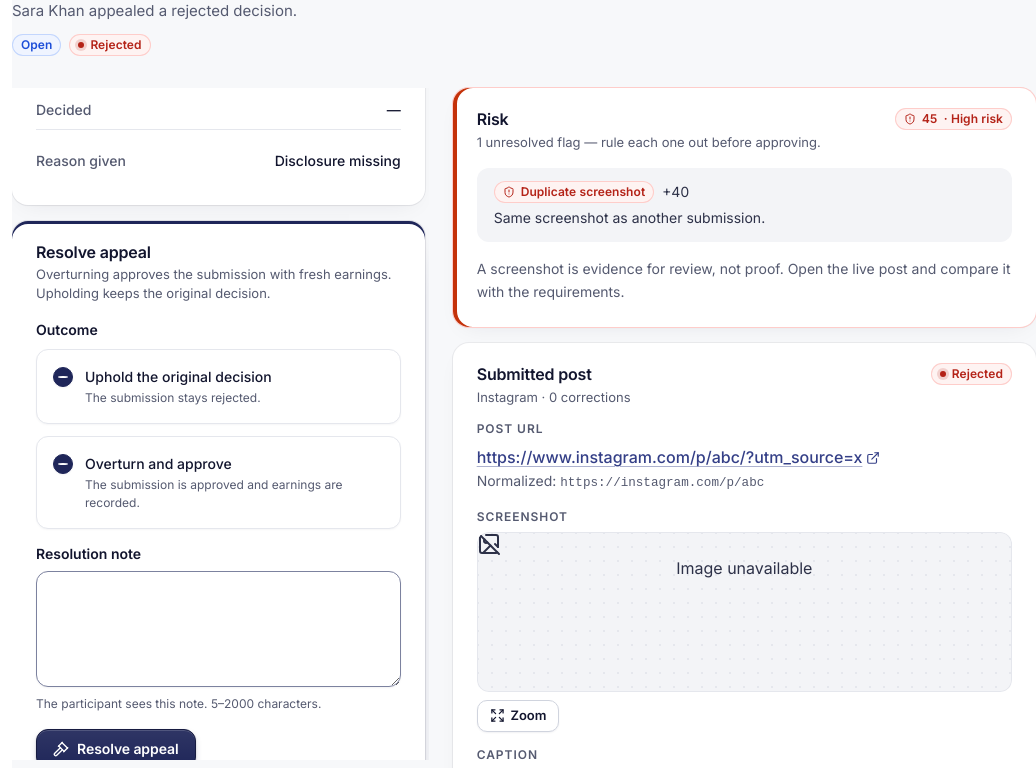
Scenario: AppealDetailPage › explains the server’s appeal.same_reviewer 403
(page scrolled)
Click the radio button labelled "Overturn and approve" at point(63, 464), box [53, 454, 73, 474]
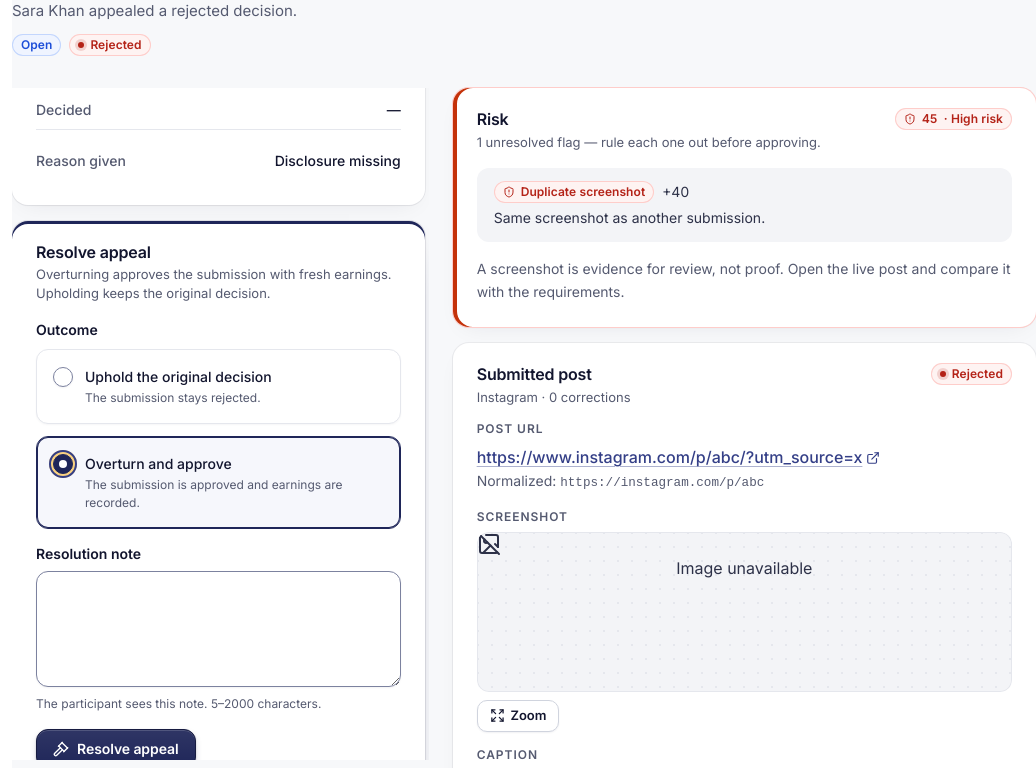
Type "Disclosure confirmed." into the text box labelled "Resolution note" at point(218, 629), box [36, 571, 401, 687]
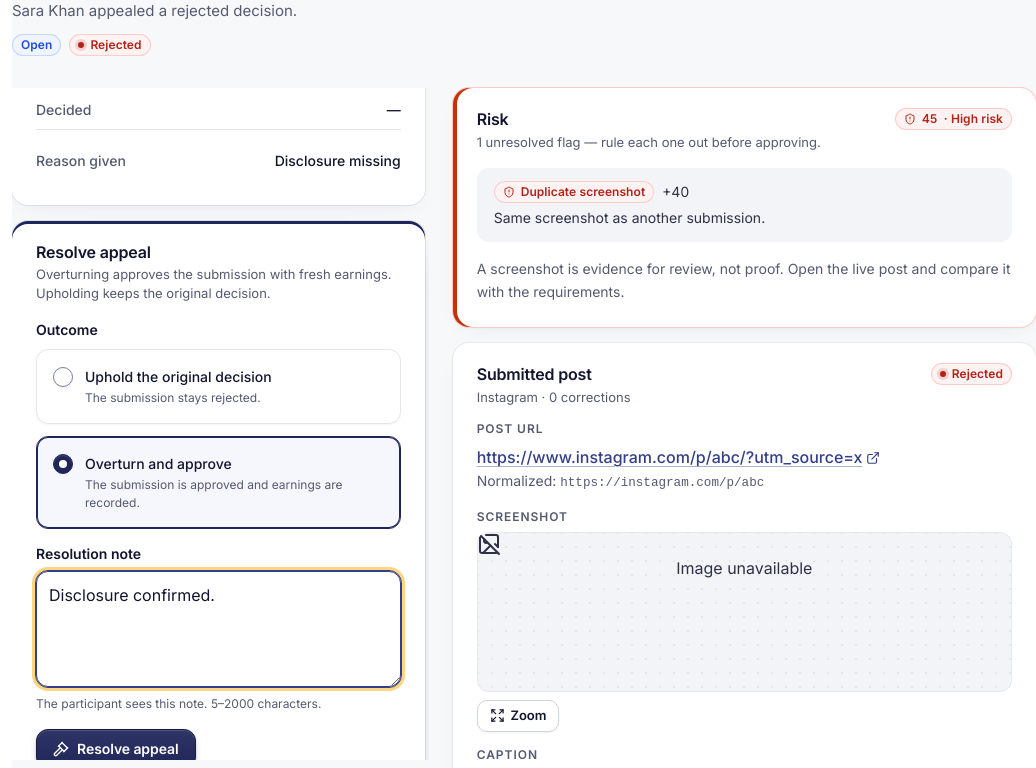
Click the button "Resolve appeal" at point(116, 749), box [36, 729, 196, 767]
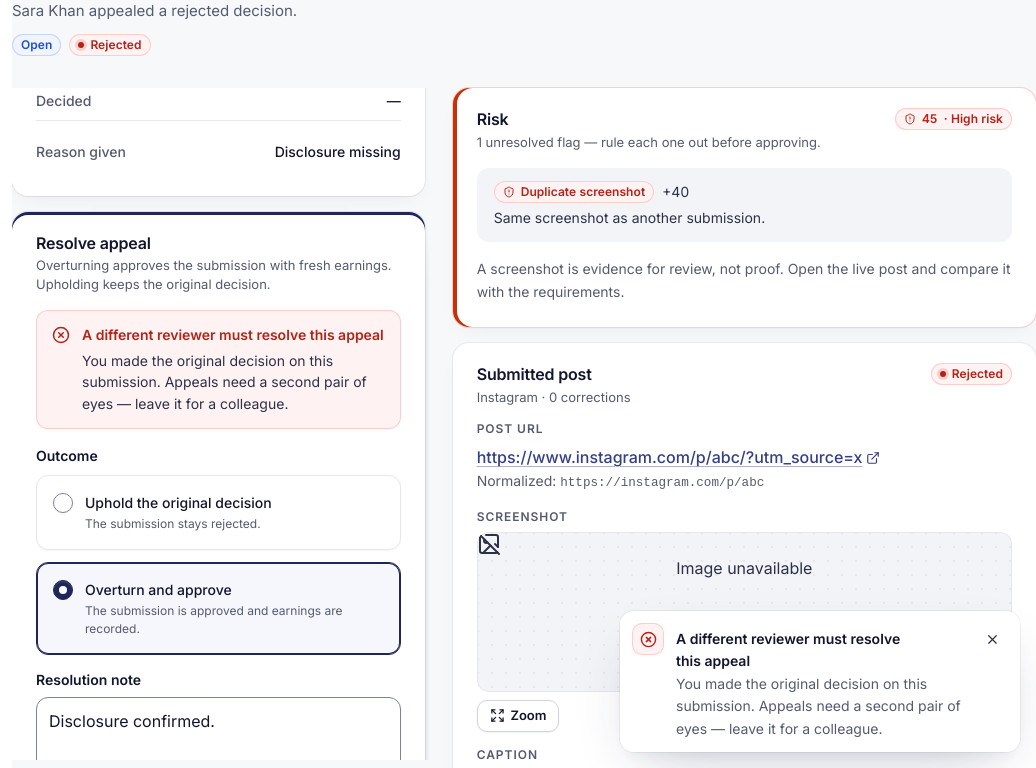
Check: the message shows "A different reviewer must resolve this appeal", box [82, 326, 384, 343]
Check: the message shows "You made the original decision", box [82, 352, 367, 412]
